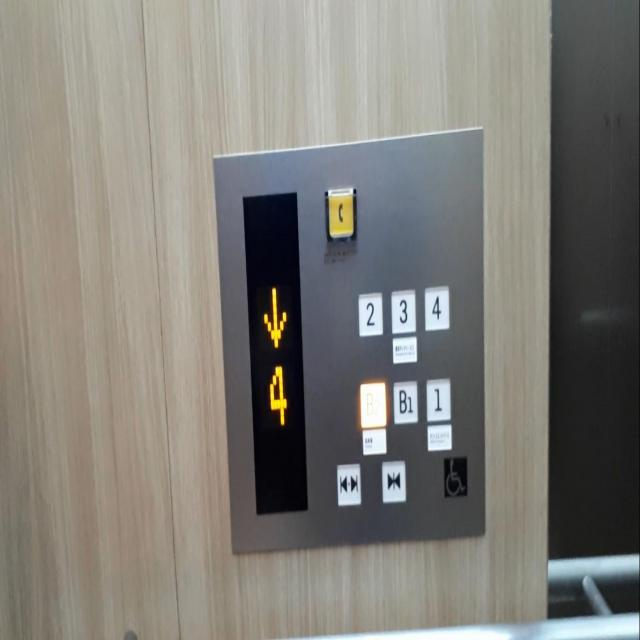1: (424, 375, 450, 422)
2: (357, 290, 383, 337)
3: (389, 287, 416, 335)
4: (422, 282, 450, 332)
B1: (391, 378, 417, 424)
B2: (358, 379, 386, 428)
CH: (442, 454, 468, 498)
call: (324, 182, 357, 242)
close: (380, 458, 406, 503)
led: (238, 187, 310, 515)
open: (336, 459, 362, 507)
